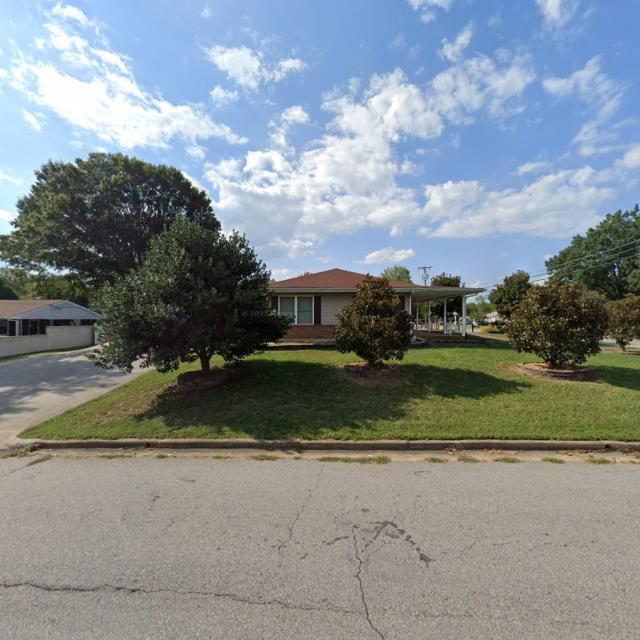House: (263, 269, 487, 342), (0, 297, 105, 336)
